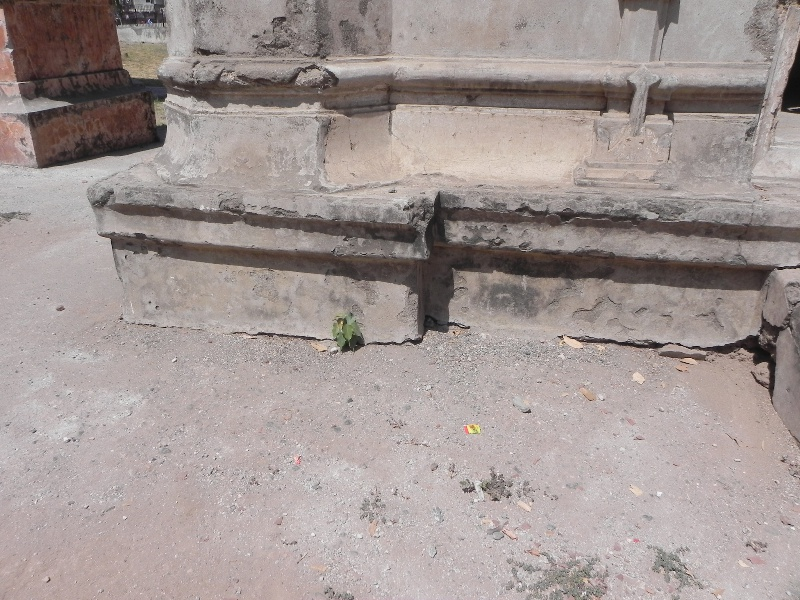Spalling: (213, 63, 336, 92), (257, 12, 334, 56), (740, 2, 789, 63), (217, 190, 259, 218)
